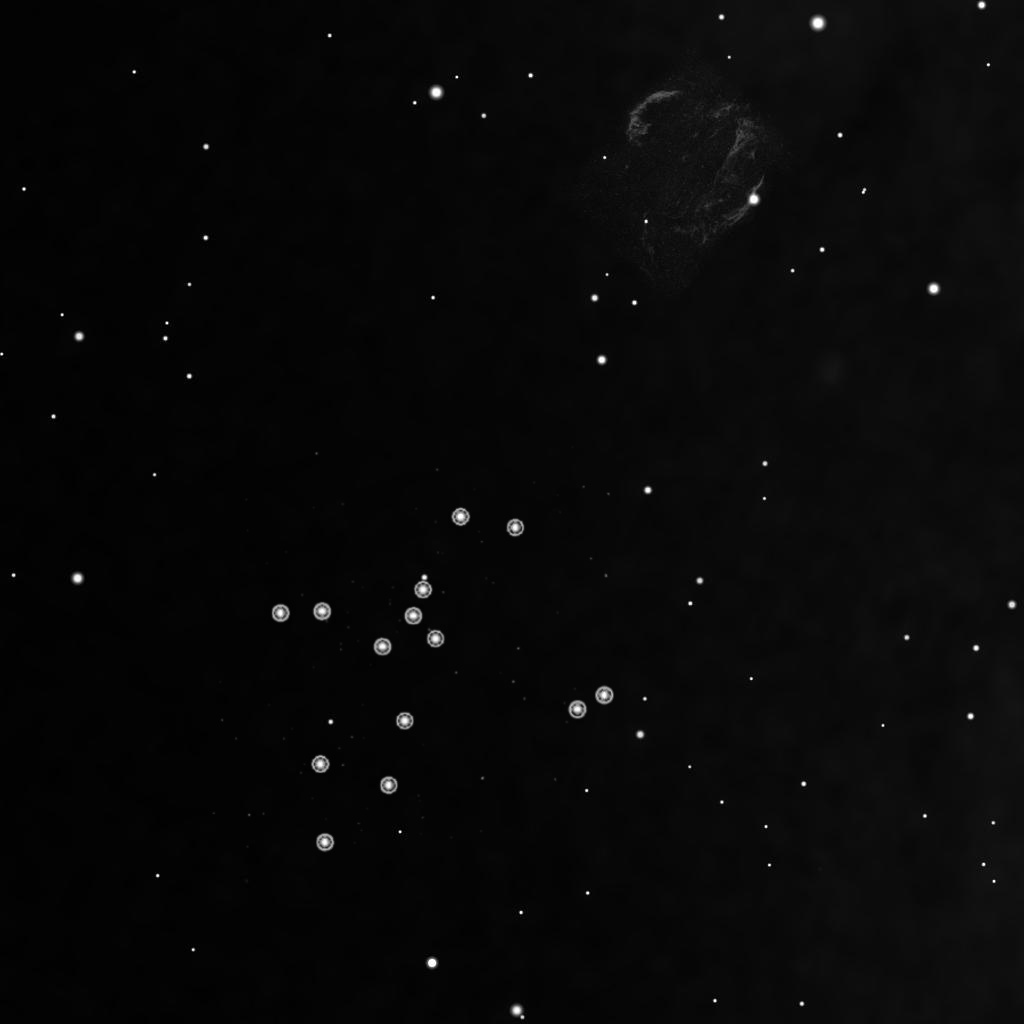canis_major: (366, 505, 535, 666)
